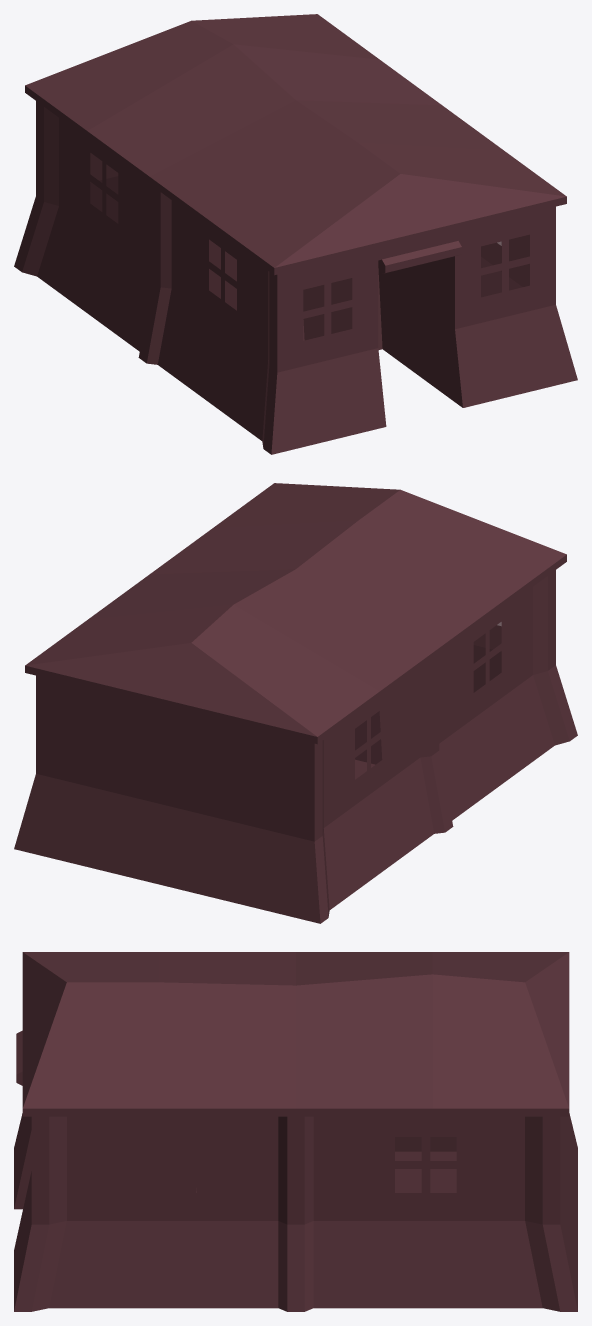
Rendered from military-tent.fbx.
3 renders of one model, top to bottom at view 1: azimuth 30°, elevation 25°; view 2: azimuth 150°, elevation 25°; view 3: azimuth 270°, elevation 25°, orthographic. The views are drawn at different scales.
Visible parts, largest first — view 1: military-tent; view 2: military-tent; view 3: military-tent.
Part boxes in pixels (left/top/right/bottom): military-tent: left=14, top=14, right=577, bottom=454; military-tent: left=14, top=483, right=577, bottom=923; military-tent: left=14, top=952, right=577, bottom=1311.
Size of the model in its own units: 4.4 by 3.2 by 6.4.
